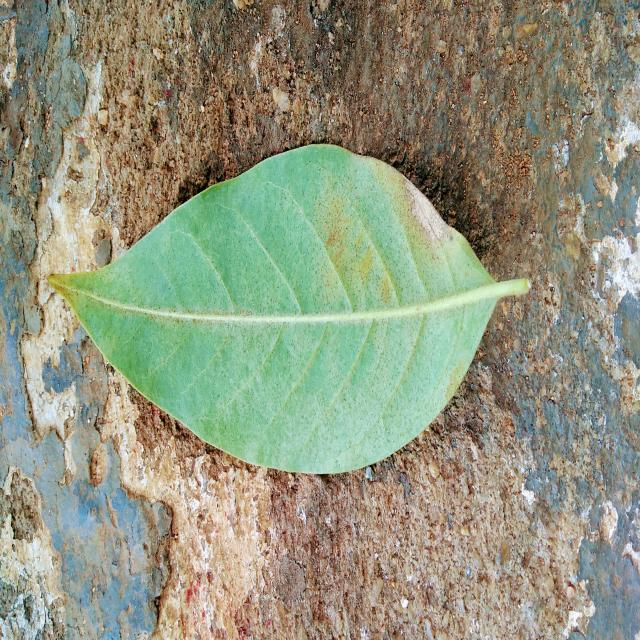sampige: (49, 144, 528, 473)
